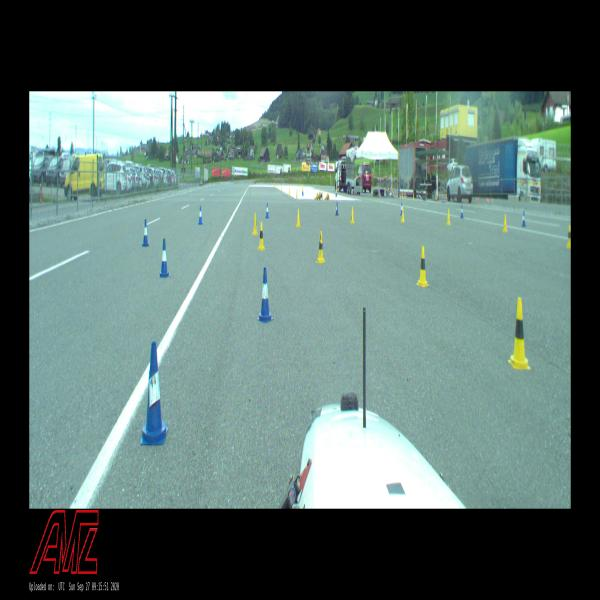blue_cone: (140, 341, 168, 446), (257, 267, 274, 323), (158, 238, 170, 278), (142, 219, 150, 247), (198, 205, 203, 225), (522, 210, 526, 228), (266, 203, 270, 218), (460, 205, 464, 218), (400, 201, 403, 216), (336, 201, 338, 216)
yellow_cone: (508, 297, 531, 370), (416, 246, 429, 287), (316, 230, 326, 264), (257, 222, 266, 250), (251, 212, 258, 236), (566, 224, 571, 248), (503, 213, 508, 233), (296, 208, 301, 228), (446, 208, 451, 225), (401, 206, 405, 222), (351, 206, 354, 224), (314, 192, 318, 201), (325, 194, 330, 200), (296, 190, 298, 199), (288, 187, 290, 196)
